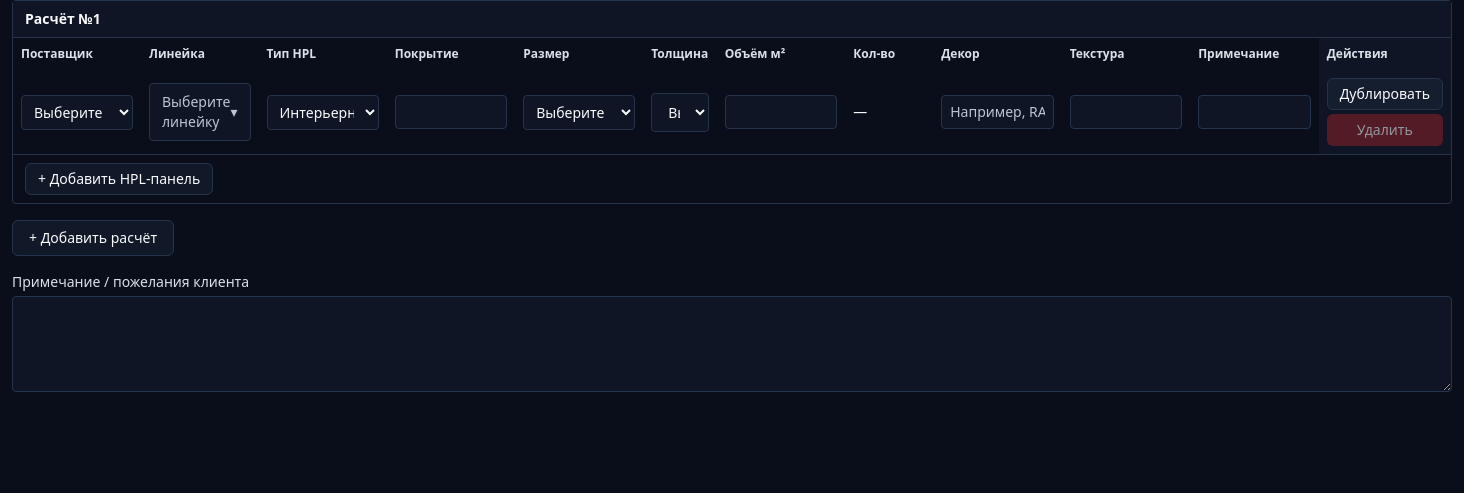
Test: CalculationRequestForm › duplicates a row without keeping the persisted id
Click the button with aria-label "Дублировать строку 1" at x=1385, y=94, box [1327, 78, 1443, 110]
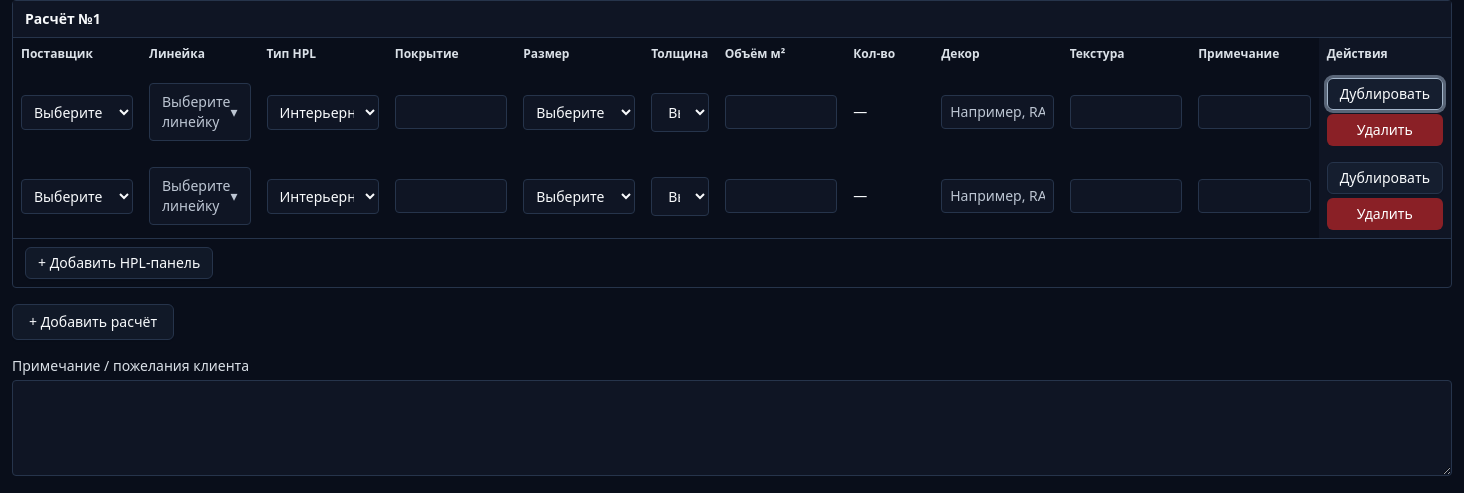
Now the number of dropdowns named "Тип HPL, строка" is 2, box [267, 94, 379, 130]; [267, 178, 379, 214]
Now the dropdown named "Тип HPL, строка" shows "Интерьерный", box [267, 178, 379, 214]
